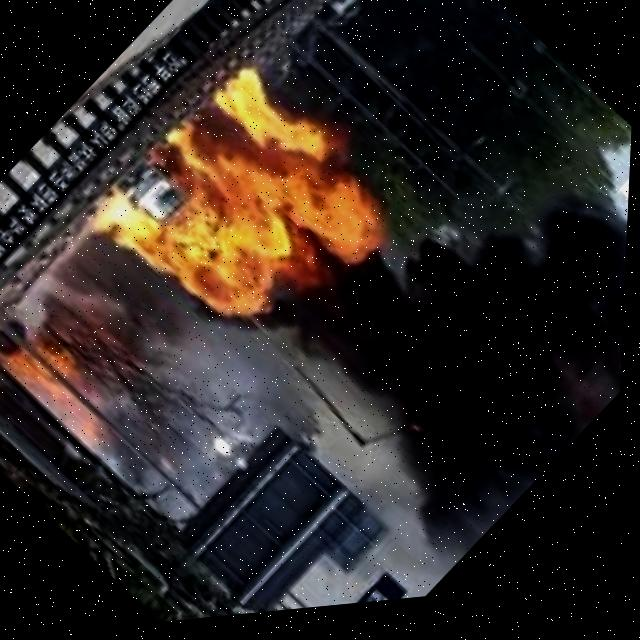Fire: (99, 65, 376, 352), (9, 337, 83, 415)
Smoke: (229, 95, 635, 595)
